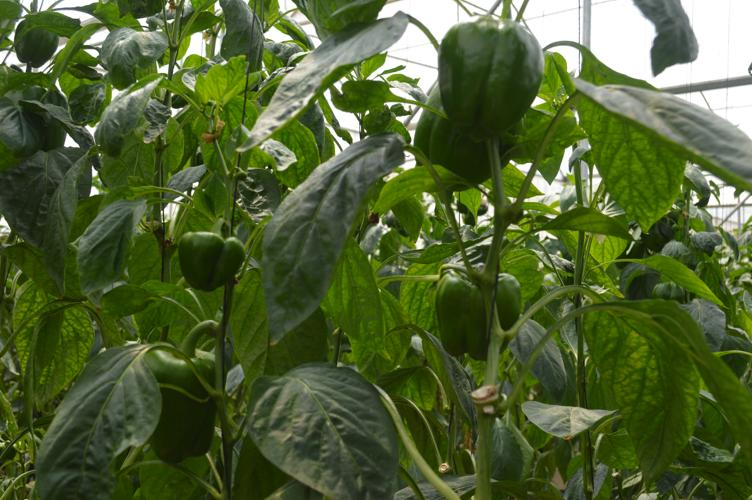BellPepper: (435, 22, 540, 137), (139, 344, 220, 465), (411, 92, 506, 189), (432, 268, 516, 360), (175, 232, 243, 293), (11, 25, 55, 68)
